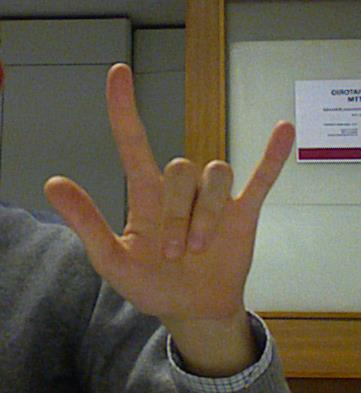back: (42, 59, 298, 322)
